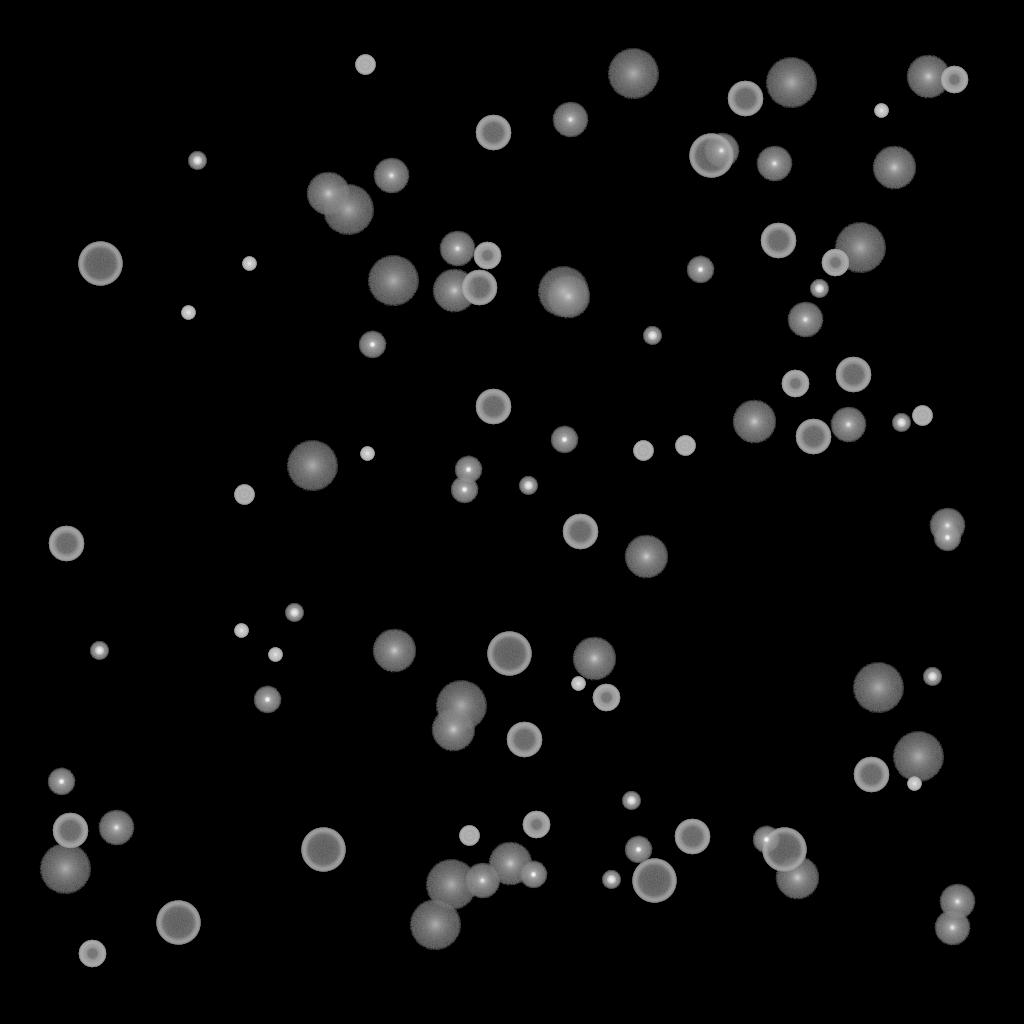depth:-10: (519, 861, 547, 889), (253, 686, 281, 714), (933, 524, 961, 552), (47, 768, 75, 796), (550, 426, 578, 454), (454, 456, 482, 484), (358, 331, 386, 359), (450, 476, 478, 504), (752, 826, 780, 854), (624, 836, 652, 864), (686, 256, 714, 284)
depth:-20: (90, 642, 108, 660), (923, 668, 941, 686), (188, 152, 206, 170), (892, 414, 910, 432), (602, 871, 620, 889), (810, 280, 828, 298), (519, 477, 537, 495), (285, 604, 303, 622), (622, 792, 640, 810), (643, 327, 661, 345)
depth:-30: (874, 104, 888, 118), (571, 677, 585, 691), (234, 624, 248, 638), (360, 447, 374, 461), (907, 777, 921, 791), (268, 648, 282, 662), (242, 257, 256, 271), (181, 306, 195, 320)
depth:-40: (633, 441, 653, 461), (675, 436, 695, 456), (234, 485, 254, 505), (355, 55, 375, 75), (912, 406, 932, 426), (459, 826, 479, 846)
depth:-50: (473, 242, 501, 270), (592, 684, 620, 712), (821, 249, 849, 277), (781, 370, 809, 398), (522, 811, 550, 839), (78, 940, 106, 968), (940, 66, 968, 94)
depth:-60: (853, 757, 889, 793), (506, 722, 542, 758), (835, 357, 871, 393), (795, 419, 831, 455), (52, 813, 88, 849), (674, 819, 710, 855), (475, 115, 511, 151), (760, 223, 796, 259), (562, 514, 598, 550), (475, 389, 511, 425), (727, 81, 763, 117), (461, 270, 497, 306), (48, 526, 84, 562)
depth:-70: (632, 859, 676, 903), (156, 901, 200, 945), (487, 632, 531, 676), (689, 134, 733, 178), (78, 242, 122, 286), (762, 828, 806, 872), (301, 828, 345, 872)
depth:0: (464, 863, 500, 899), (939, 884, 975, 920), (552, 102, 588, 138), (756, 146, 792, 182), (98, 810, 134, 846), (934, 910, 970, 946), (787, 302, 823, 338), (439, 231, 475, 267), (373, 158, 409, 194), (830, 407, 866, 443), (929, 508, 965, 544), (703, 133, 739, 169)
depth:10: (906, 55, 950, 99), (488, 842, 532, 886), (306, 172, 350, 216), (624, 535, 668, 579), (732, 400, 776, 444), (572, 637, 616, 681), (432, 269, 476, 313), (872, 146, 916, 190), (372, 629, 416, 673), (431, 708, 475, 752), (546, 275, 590, 319), (775, 856, 819, 900)
depth:20: (765, 58, 817, 108), (607, 49, 659, 99), (425, 860, 477, 910), (852, 663, 904, 713), (286, 441, 338, 491), (435, 681, 487, 731), (834, 223, 886, 273), (39, 844, 91, 894), (537, 267, 589, 317), (892, 732, 944, 782), (409, 900, 461, 950), (322, 185, 374, 235), (367, 256, 419, 306)
